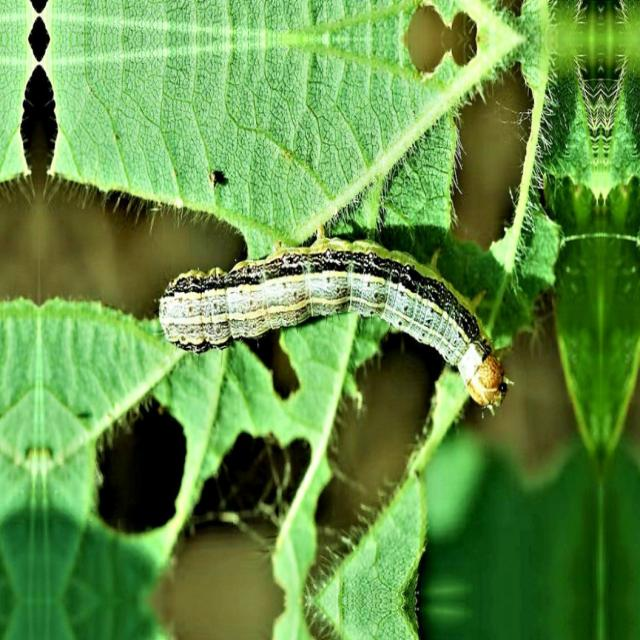Armyworm: (126, 247, 525, 441)
Armyworm_damage: (93, 378, 193, 541), (10, 63, 82, 203)
